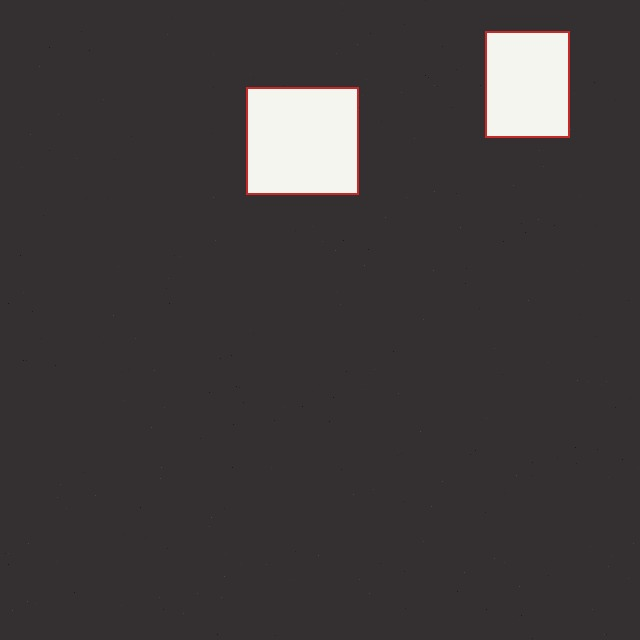book: (246, 87, 358, 194), (485, 31, 569, 137)
